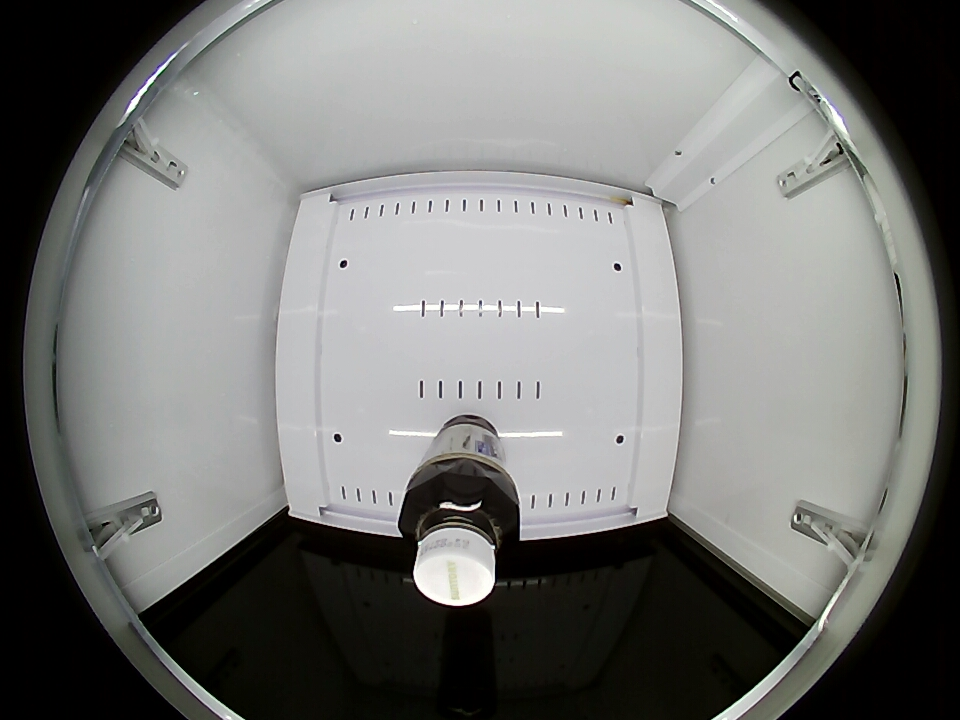wulongcha: (399, 477, 521, 607)
